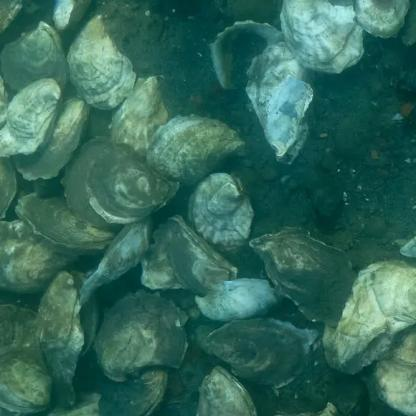3: (100, 367, 168, 416)
Oyster-Closed: (17, 192, 116, 250)
Oyster-Open: (61, 137, 179, 228), (325, 260, 416, 372), (251, 231, 356, 327), (246, 42, 315, 163), (96, 290, 187, 380), (208, 318, 316, 388), (141, 216, 237, 294), (79, 212, 154, 306), (147, 115, 246, 185), (67, 14, 137, 110), (13, 94, 90, 180), (281, 0, 365, 73), (40, 271, 84, 408), (0, 304, 53, 414), (0, 220, 79, 293), (188, 173, 254, 251), (0, 78, 62, 157), (111, 76, 168, 159), (1, 24, 70, 90), (196, 278, 282, 321), (376, 325, 416, 416), (197, 366, 257, 416), (354, 0, 411, 36), (388, 326, 416, 365), (0, 157, 17, 220)
